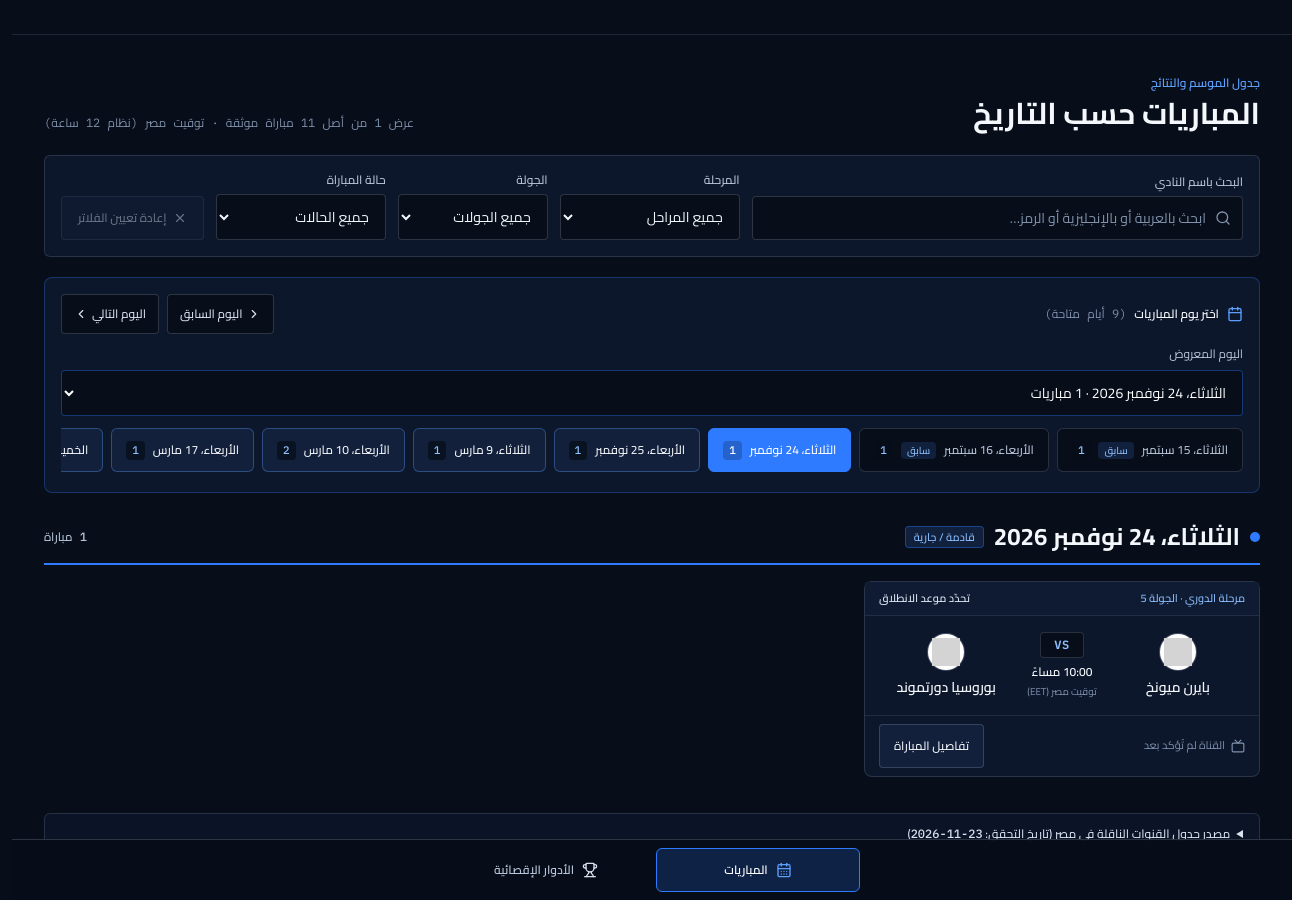
Champions League Matches & Knockout App UI (Arabic / RTL) › renders unified 3-column facing fixture cards (Home right, VS/score+time center, Away left in RTL) with 36px crests above wrapped Arabic names and blue date sep
(page scrolled)
Expected: the text "بايرن ميونخ" is shown, [1146,674,1210,700]
Expected: the text "بوروسيا دورتموند" is shown, [896,674,996,700]
// Finished match in Past Results renders score + kickoff time in center column & unconfirmed channel fallback
Click the button "الثلاثاء، 15 سبتمبر سابق 1": click(1150, 450) [1057,428,1243,472]
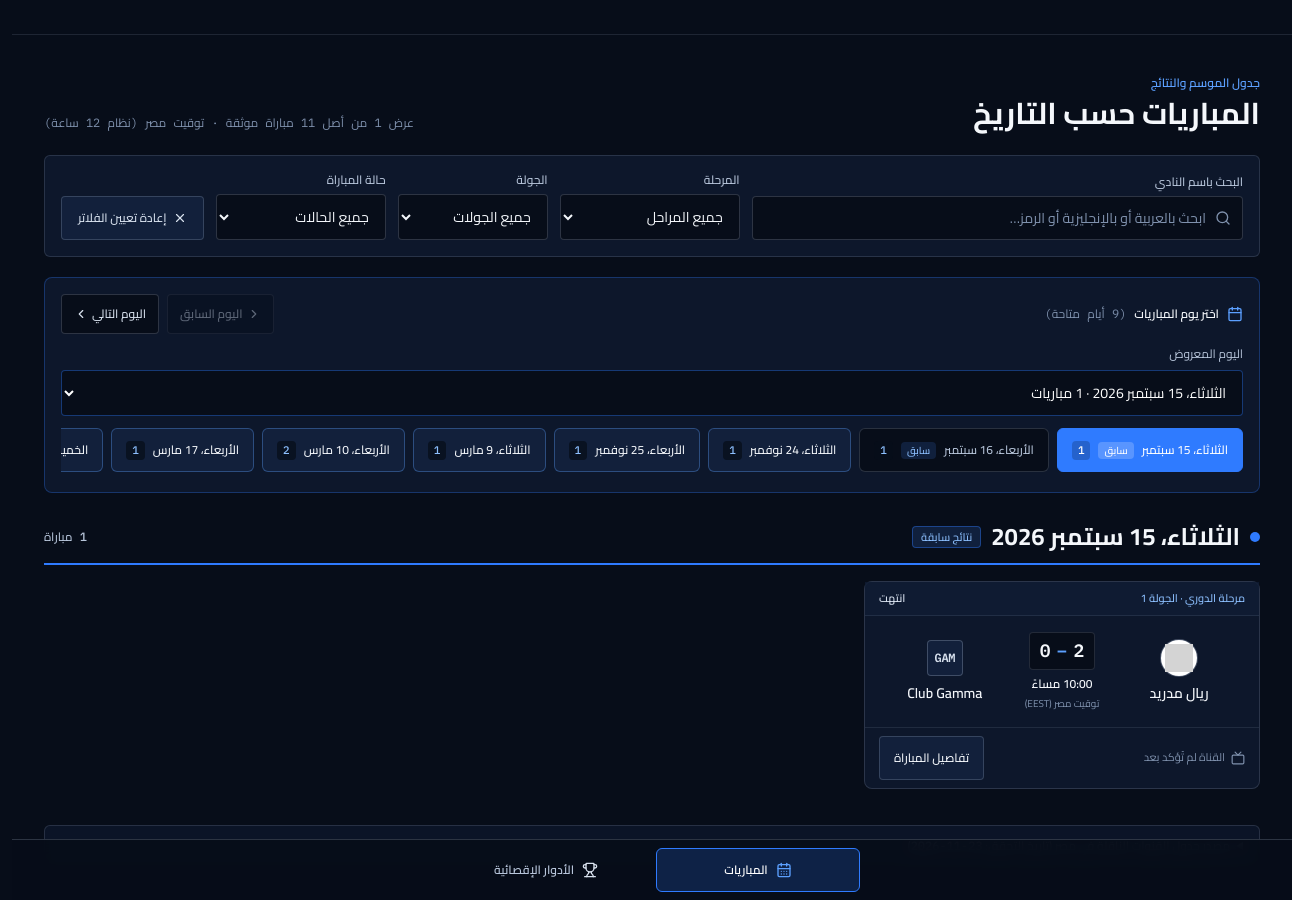
Expected: the text "10:00 مساءً" is shown, [1032,676,1092,692]
Expected: the element named "النتيجة 2 مقابل 0" is shown, [1029,632,1095,670]
